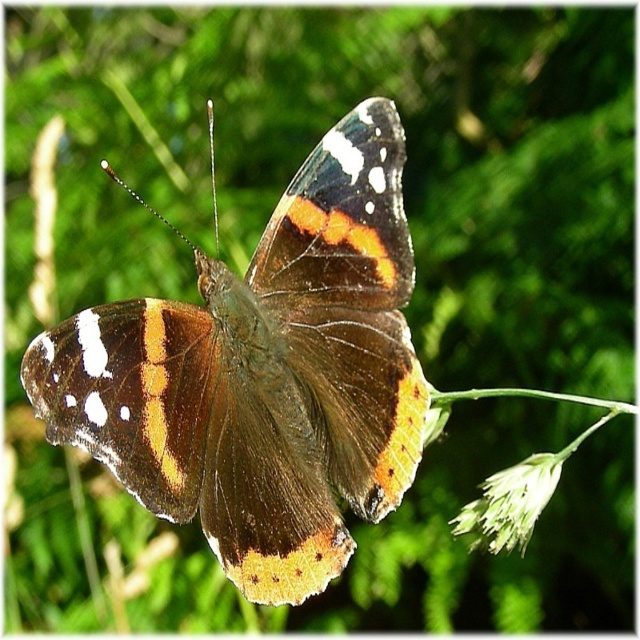Butterfly: (18, 97, 433, 609)
